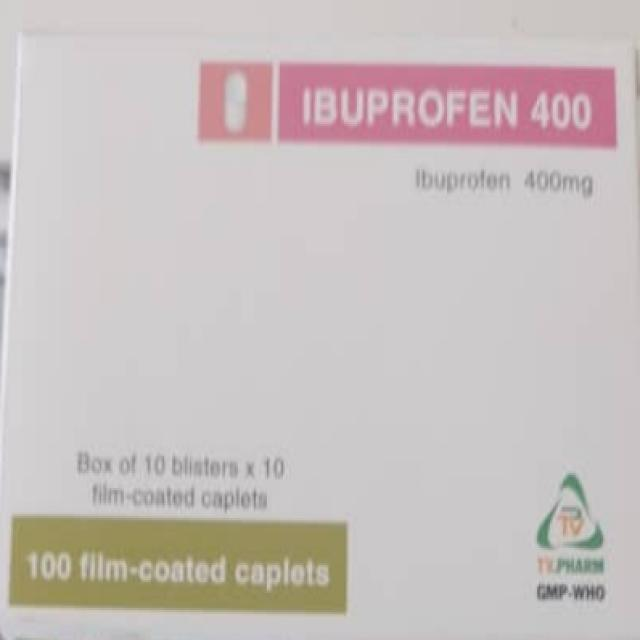drug-name: (297, 72, 601, 136)
